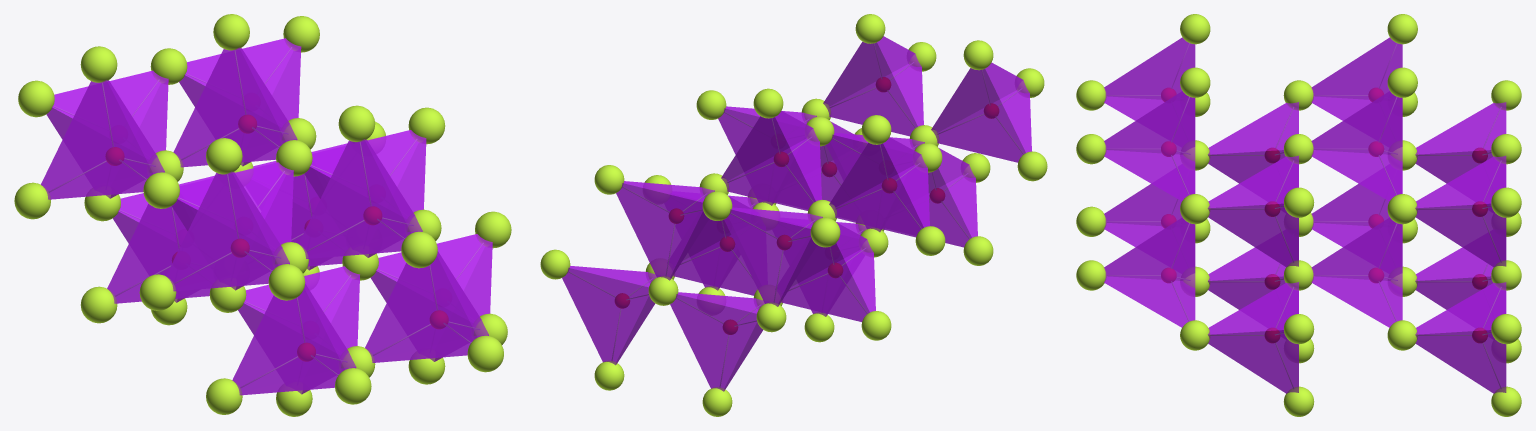
File: beta-AgI.fbx
3 views of the same model, side by side, from view 1: azimuth 30°, elevation 25°; view 2: azimuth 150°, elevation 25°; view 3: azimuth 270°, elevation 25° (orthographic). The views are drawn at different scales.
Parts seen in each view (by area): view 1: Shape_IndexedFaceSet.054, Shape_IndexedFaceSet.050, Shape_IndexedFaceSet.034, Shape_IndexedFaceSet.042, Shape_IndexedFaceSet.058, Shape_IndexedFaceSet.038, Shape_IndexedFaceSet.049, Shape_IndexedFaceSet.053, Shape_IndexedFaceSet.033, Shape_IndexedFaceSet.037, Shape_IndexedFaceSet.041, Shape_IndexedFaceSet.057 (+74 smaller); view 2: Shape_IndexedFaceSet.037, Shape_IndexedFaceSet.053, Shape_IndexedFaceSet.049, Shape_IndexedFaceSet.029, Shape_IndexedFaceSet.021, Shape_IndexedFaceSet.013, Shape_IndexedFaceSet.005, Shape_IndexedFaceSet.022, Shape_IndexedFaceSet.033, Shape_IndexedFaceSet.014, Shape_IndexedFaceSet.030, Shape_IndexedFaceSet.006 (+60 smaller); view 3: Shape_IndexedFaceSet.032, Shape_IndexedFaceSet.040, Shape_IndexedFaceSet.044, Shape_IndexedFaceSet.036, Shape_IndexedFaceSet.011, Shape_IndexedFaceSet.015, Shape_IndexedFaceSet.003, Shape_IndexedFaceSet.007, Shape_IndexedFaceSet.048, Shape_IndexedFaceSet.052, Shape_IndexedFaceSet.014, Shape_IndexedFaceSet.006 (+64 smaller).
Boxes of the visible parts, box(x1,y1,x2,y2) form: Shape_IndexedFaceSet.054: box(41, 80, 152, 199); Shape_IndexedFaceSet.050: box(166, 171, 278, 291); Shape_IndexedFaceSet.034: box(298, 139, 411, 258); Shape_IndexedFaceSet.042: box(365, 256, 477, 362); Shape_IndexedFaceSet.058: box(232, 288, 344, 395); Shape_IndexedFaceSet.038: box(173, 47, 285, 167); Shape_IndexedFaceSet.049: box(166, 172, 281, 287); Shape_IndexedFaceSet.053: box(41, 81, 156, 195); Shape_IndexedFaceSet.033: box(299, 140, 414, 255); Shape_IndexedFaceSet.037: box(174, 48, 289, 163); Shape_IndexedFaceSet.041: box(365, 252, 480, 359); Shape_IndexedFaceSet.057: box(233, 284, 347, 391); Shape_IndexedFaceSet.037: box(721, 116, 815, 210); Shape_IndexedFaceSet.053: box(829, 142, 923, 237); Shape_IndexedFaceSet.049: box(931, 68, 1025, 162); Shape_IndexedFaceSet.029: box(670, 294, 762, 391); Shape_IndexedFaceSet.021: box(724, 209, 817, 306); Shape_IndexedFaceSet.013: box(562, 268, 655, 365); Shape_IndexedFaceSet.005: box(616, 183, 708, 280); Shape_IndexedFaceSet.022: box(724, 208, 812, 303); Shape_IndexedFaceSet.033: box(823, 41, 917, 136); Shape_IndexedFaceSet.014: box(562, 266, 650, 361); Shape_IndexedFaceSet.030: box(670, 293, 758, 387); Shape_IndexedFaceSet.006: box(616, 181, 704, 276); Shape_IndexedFaceSet.032: box(1104, 91, 1195, 200); Shape_IndexedFaceSet.040: box(1104, 217, 1195, 327); Shape_IndexedFaceSet.044: box(1311, 217, 1402, 327); Shape_IndexedFaceSet.036: box(1311, 91, 1402, 201); Shape_IndexedFaceSet.011: box(1208, 283, 1298, 393); Shape_IndexedFaceSet.015: box(1416, 283, 1505, 392); Shape_IndexedFaceSet.003: box(1209, 157, 1298, 266); Shape_IndexedFaceSet.007: box(1416, 157, 1505, 266); Shape_IndexedFaceSet.048: box(1104, 37, 1195, 120); Shape_IndexedFaceSet.052: box(1311, 37, 1402, 120); Shape_IndexedFaceSet.014: box(1415, 330, 1506, 393); Shape_IndexedFaceSet.006: box(1415, 203, 1506, 267).
Bounding box in the file's own units: 1488 × 1170 × 1612.
